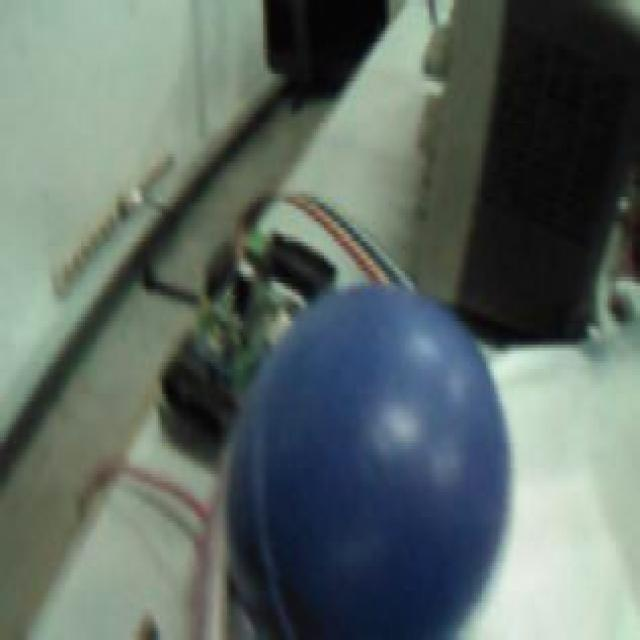BallPurple: (224, 289, 510, 640)
